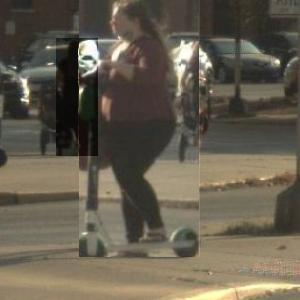with scooter: (80, 0, 201, 257)
without scooter: (57, 38, 99, 156)
